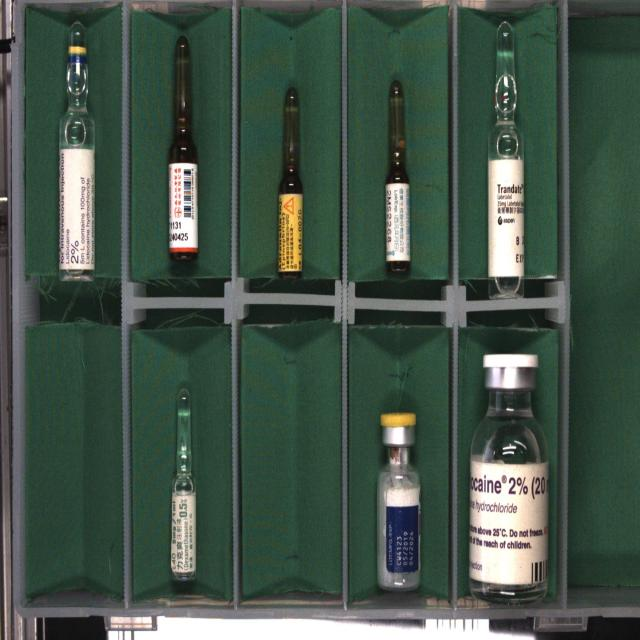Vials: (469, 354, 549, 603), (376, 413, 420, 591), (399, 420, 404, 425)
